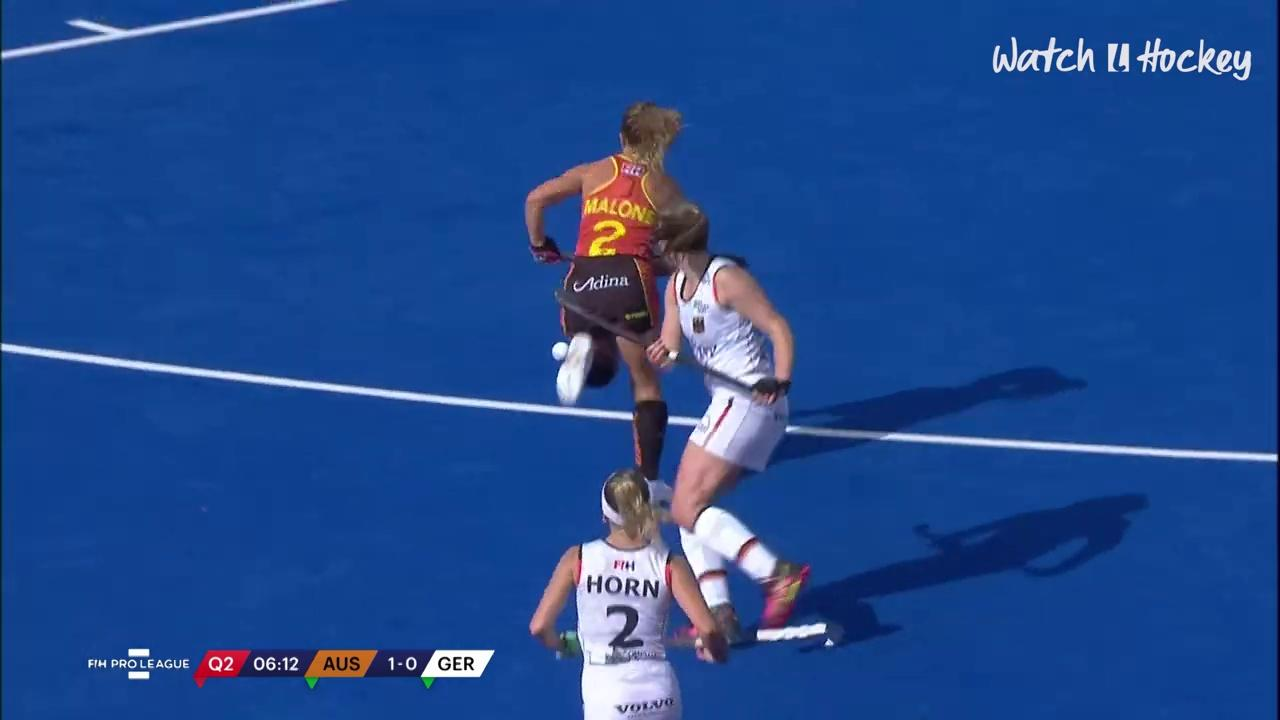ball: (547, 337, 576, 363)
